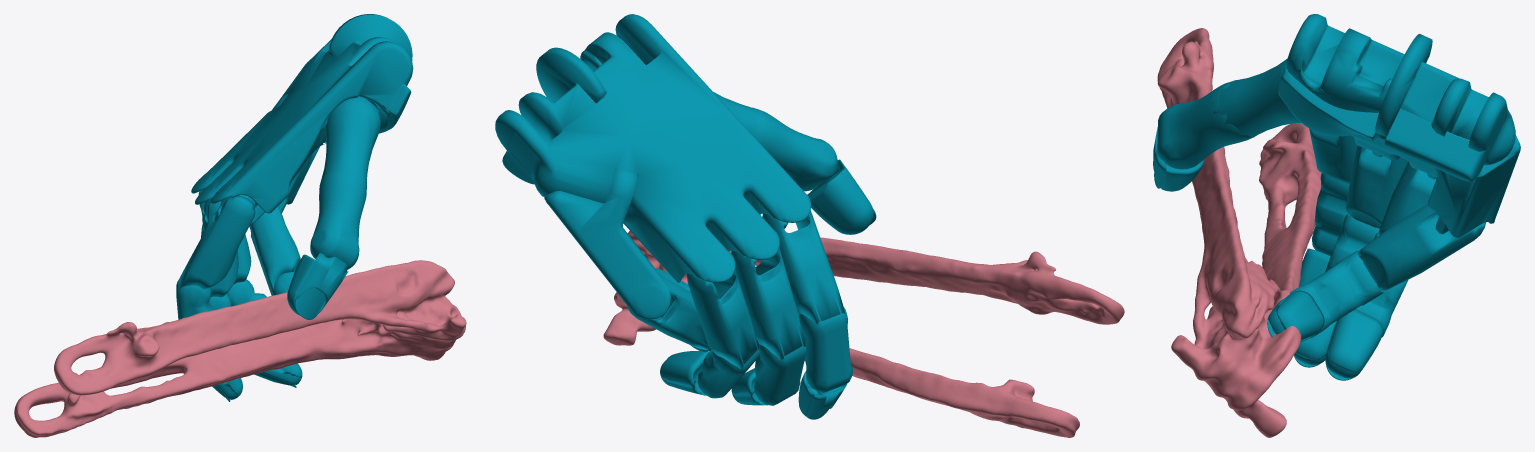
The picture shows the model from 3 angles, left to right: view 1: azimuth 30°, elevation 25°; view 2: azimuth 150°, elevation 25°; view 3: azimuth 270°, elevation 25°; orthographic projection. The views are drawn at different scales.
Visible parts, largest first — view 1: world; view 2: world; view 3: world.
Part boxes in pixels (bbox=[...]): world: bbox=[14, 14, 466, 437]; world: bbox=[495, 14, 1124, 437]; world: bbox=[1153, 14, 1520, 437].
Bounding box in the file's own units: 0.2323 × 0.1625 × 0.1325.
